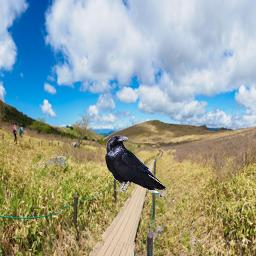Crow: (105, 135, 167, 198)
